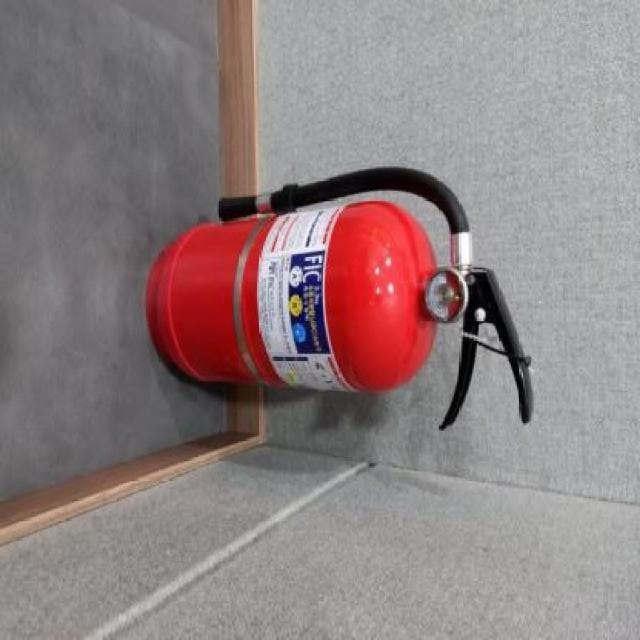fire extinguisher: (147, 166, 533, 431)
